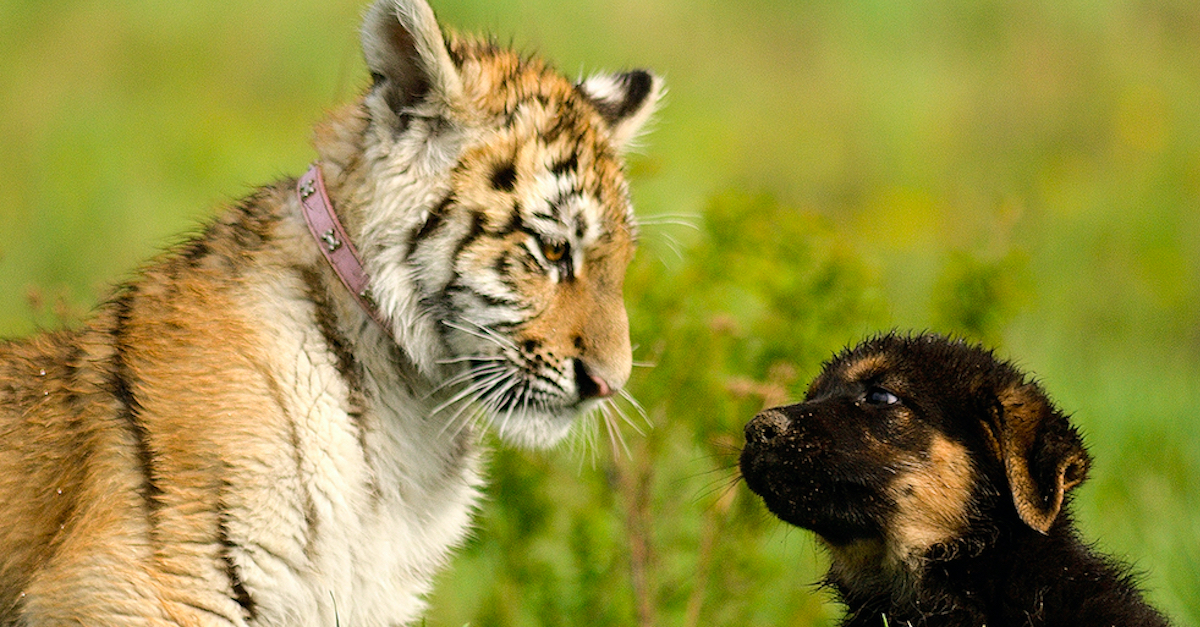dog: (734, 337, 1175, 627)
tiger: (1, 5, 675, 626)
